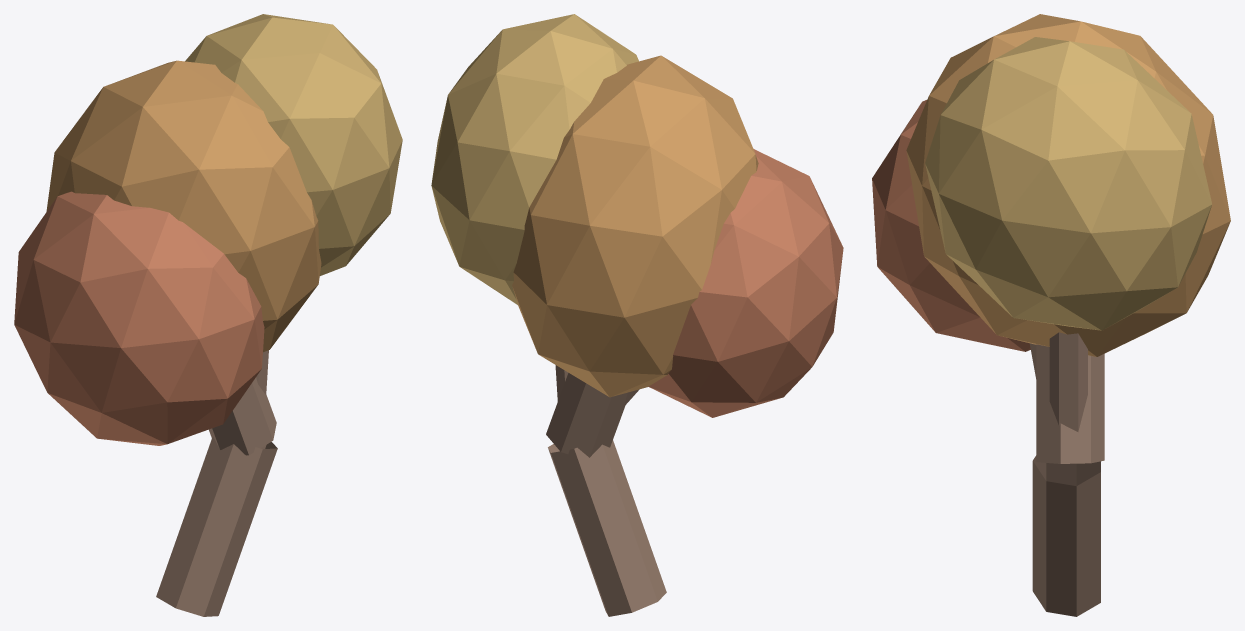
The picture shows the model from 3 angles, left to right: view 1: azimuth 30°, elevation 25°; view 2: azimuth 150°, elevation 25°; view 3: azimuth 270°, elevation 25°; orthographic projection. The views are drawn at different scales.
Visible parts, largest first — view 1: T12; view 2: T12; view 3: T12.
Part boxes in pixels (bbox=[...]): T12: bbox=[14, 14, 402, 616]; T12: bbox=[431, 14, 843, 616]; T12: bbox=[872, 14, 1230, 616].
Bounding box in the file's own units: 1.1 × 1.68 × 0.8995.
